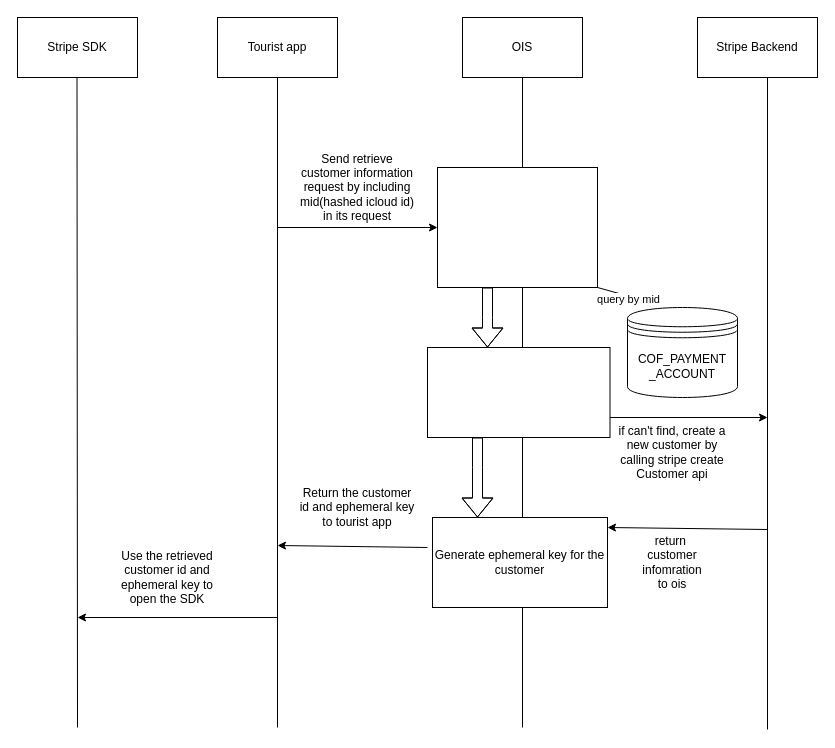
Some shapes in this 835 by 748 pixel diagram are drawn without their labels. Here are the shapes that lost their labels. From the top down, the centre of each, then its label:
the point at 517,227: Ois search form database COF_PAYMENT _ACCOUNT table by using mid
the point at 518,392: Whether ois can find the customer information or not?
